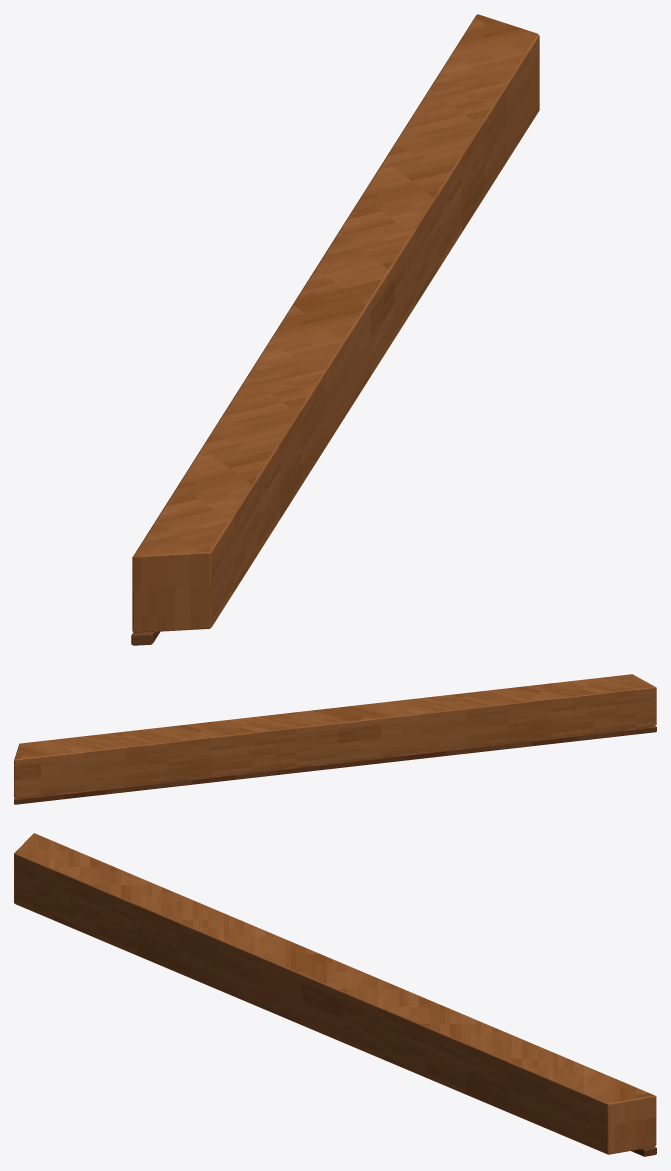
The model's file is Rim-5.glb.
The picture shows the model from 3 angles, top to bottom: view 1: azimuth 30°, elevation 25°; view 2: azimuth 150°, elevation 25°; view 3: azimuth 270°, elevation 25°; orthographic projection. The views are drawn at different scales.
Parts seen in each view (by area): view 1: Rim-5; view 2: Rim-5; view 3: Rim-5.
Boxes of the visible parts, x1,y1,x2,y2 form: Rim-5: (131, 14, 539, 645); Rim-5: (14, 674, 656, 804); Rim-5: (14, 833, 656, 1156).
Bounding box in the file's own units: 2.44 × 0.25 × 2.44.
Materials: 2 (2 with a texture image).
